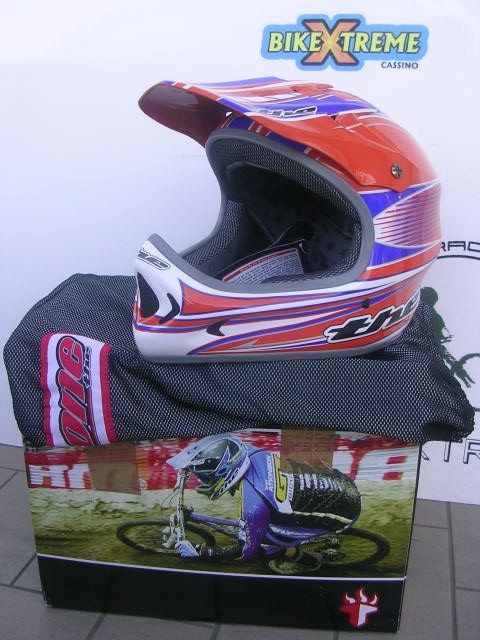helmet: (150, 73, 439, 350)
